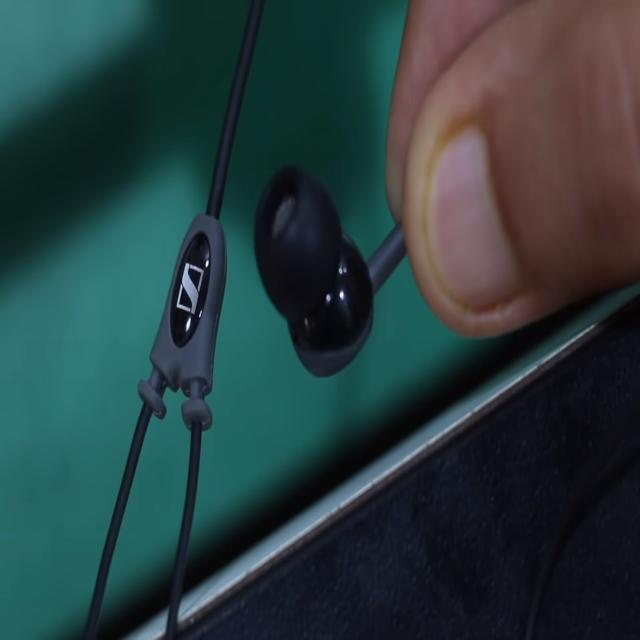Earphone: (81, 0, 405, 640)
